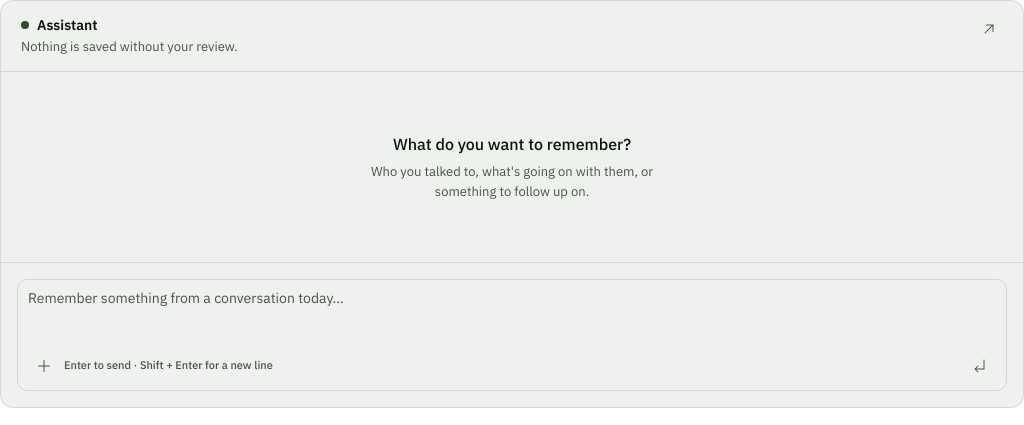
Test: takes a queued message back out when it is removed
Type "Mara adopted a cat" into the text box at (512, 312), box [18,280,1006,344]
Then press Enter
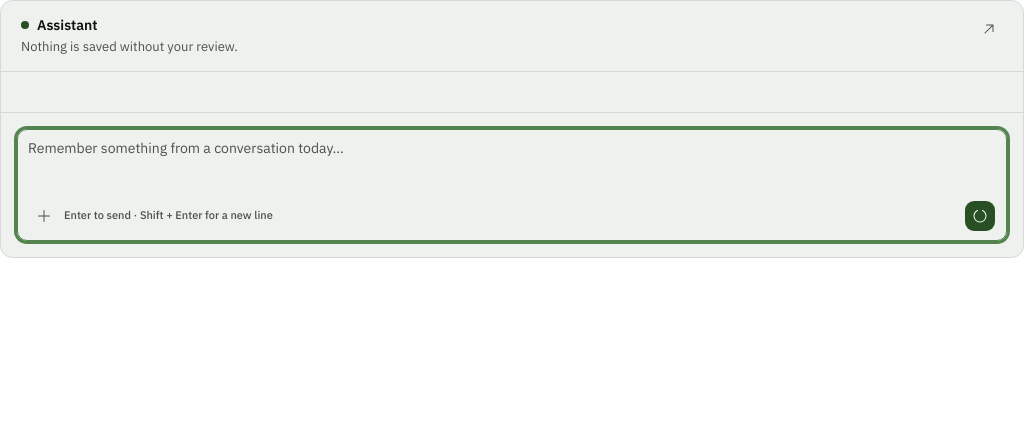
Type "Never mind" into the text box at (512, 162), box [18,130,1006,194]
Then press Enter
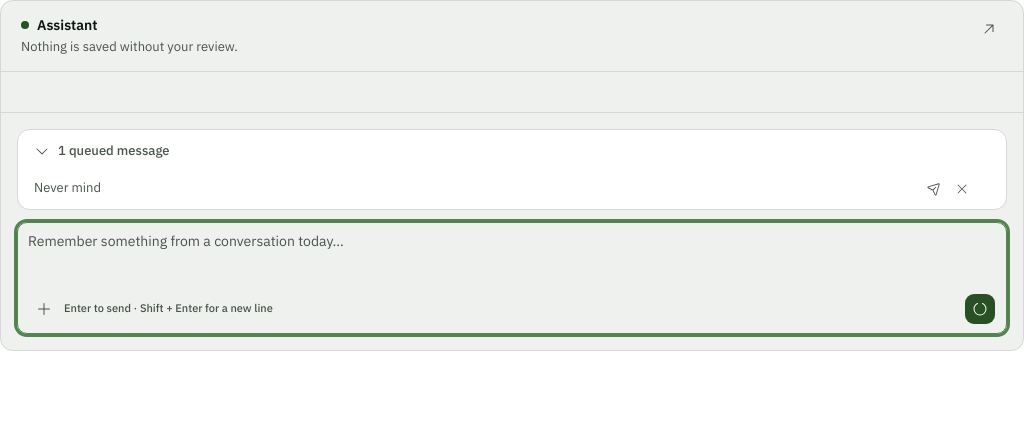
Click the button named "Remove from the queue" at (962, 189), box [950,177,974,201]
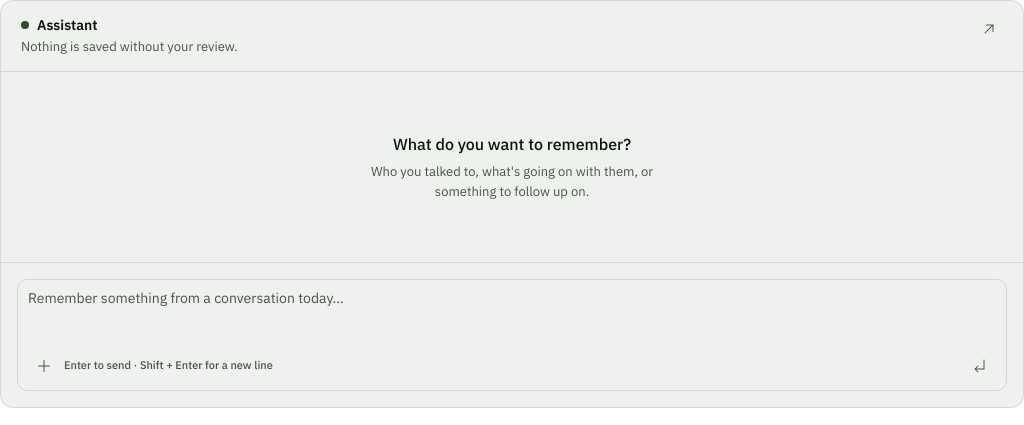
Expected: the button "queued message" is gone
